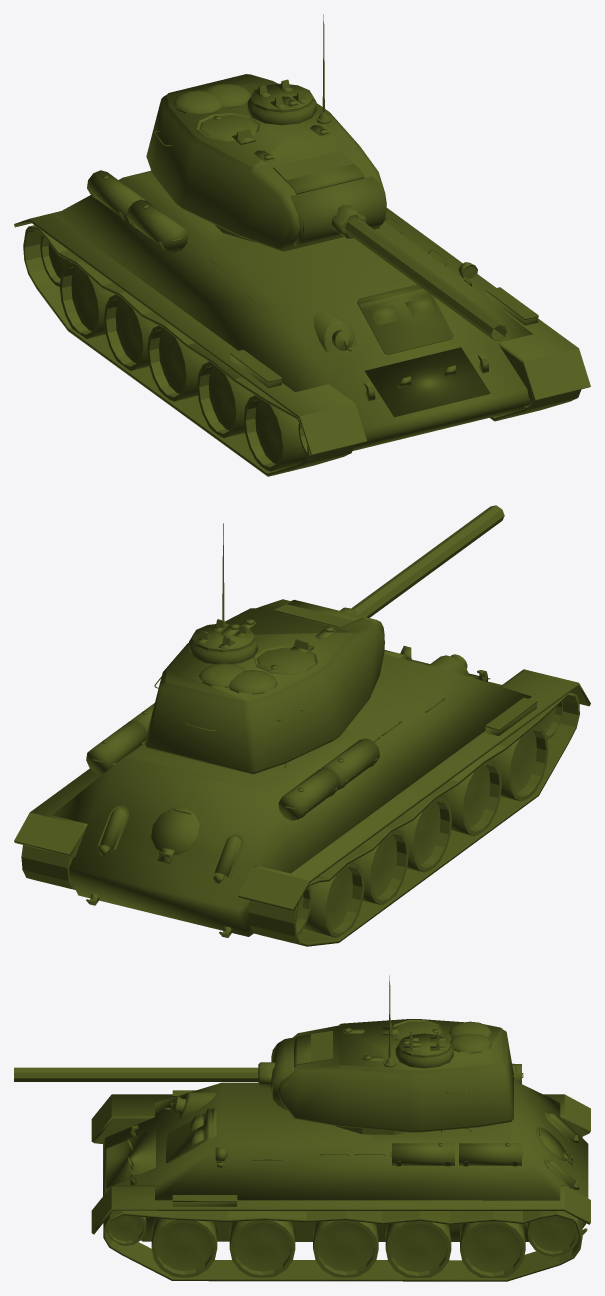
Rendered from tanke_collider.fbx.
The picture shows the model from 3 angles, top to bottom: view 1: azimuth 30°, elevation 25°; view 2: azimuth 150°, elevation 25°; view 3: azimuth 270°, elevation 25°; orthographic projection. The views are drawn at different scales.
Parts seen in each view (by area): view 1: Tank_collider; view 2: Tank_collider; view 3: Tank_collider.
Part boxes in pixels (bbox=[...]): Tank_collider: bbox=[14, 14, 590, 476]; Tank_collider: bbox=[14, 505, 590, 946]; Tank_collider: bbox=[14, 975, 590, 1281].
Bounding box in the file's own units: 2121 × 2345 × 4530.
